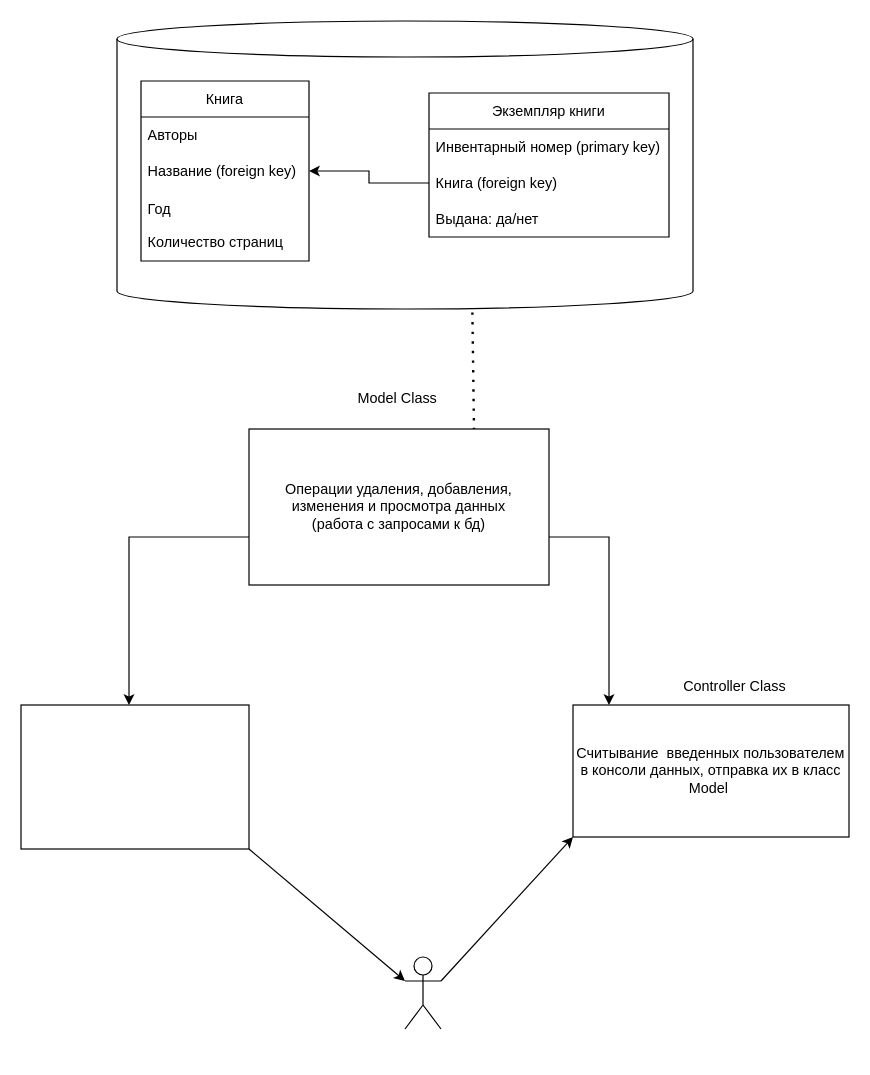
The diagram is 870 pixels wide and 1075 high, and some of its shapes have lost their labels. The shapes that lost their labels are listed below. From the top down, each one's centre as x and y in pixels, then its label:
At point (134, 776): "Вывод необходимой информации в консоль".
At point (422, 992): "Actor".
